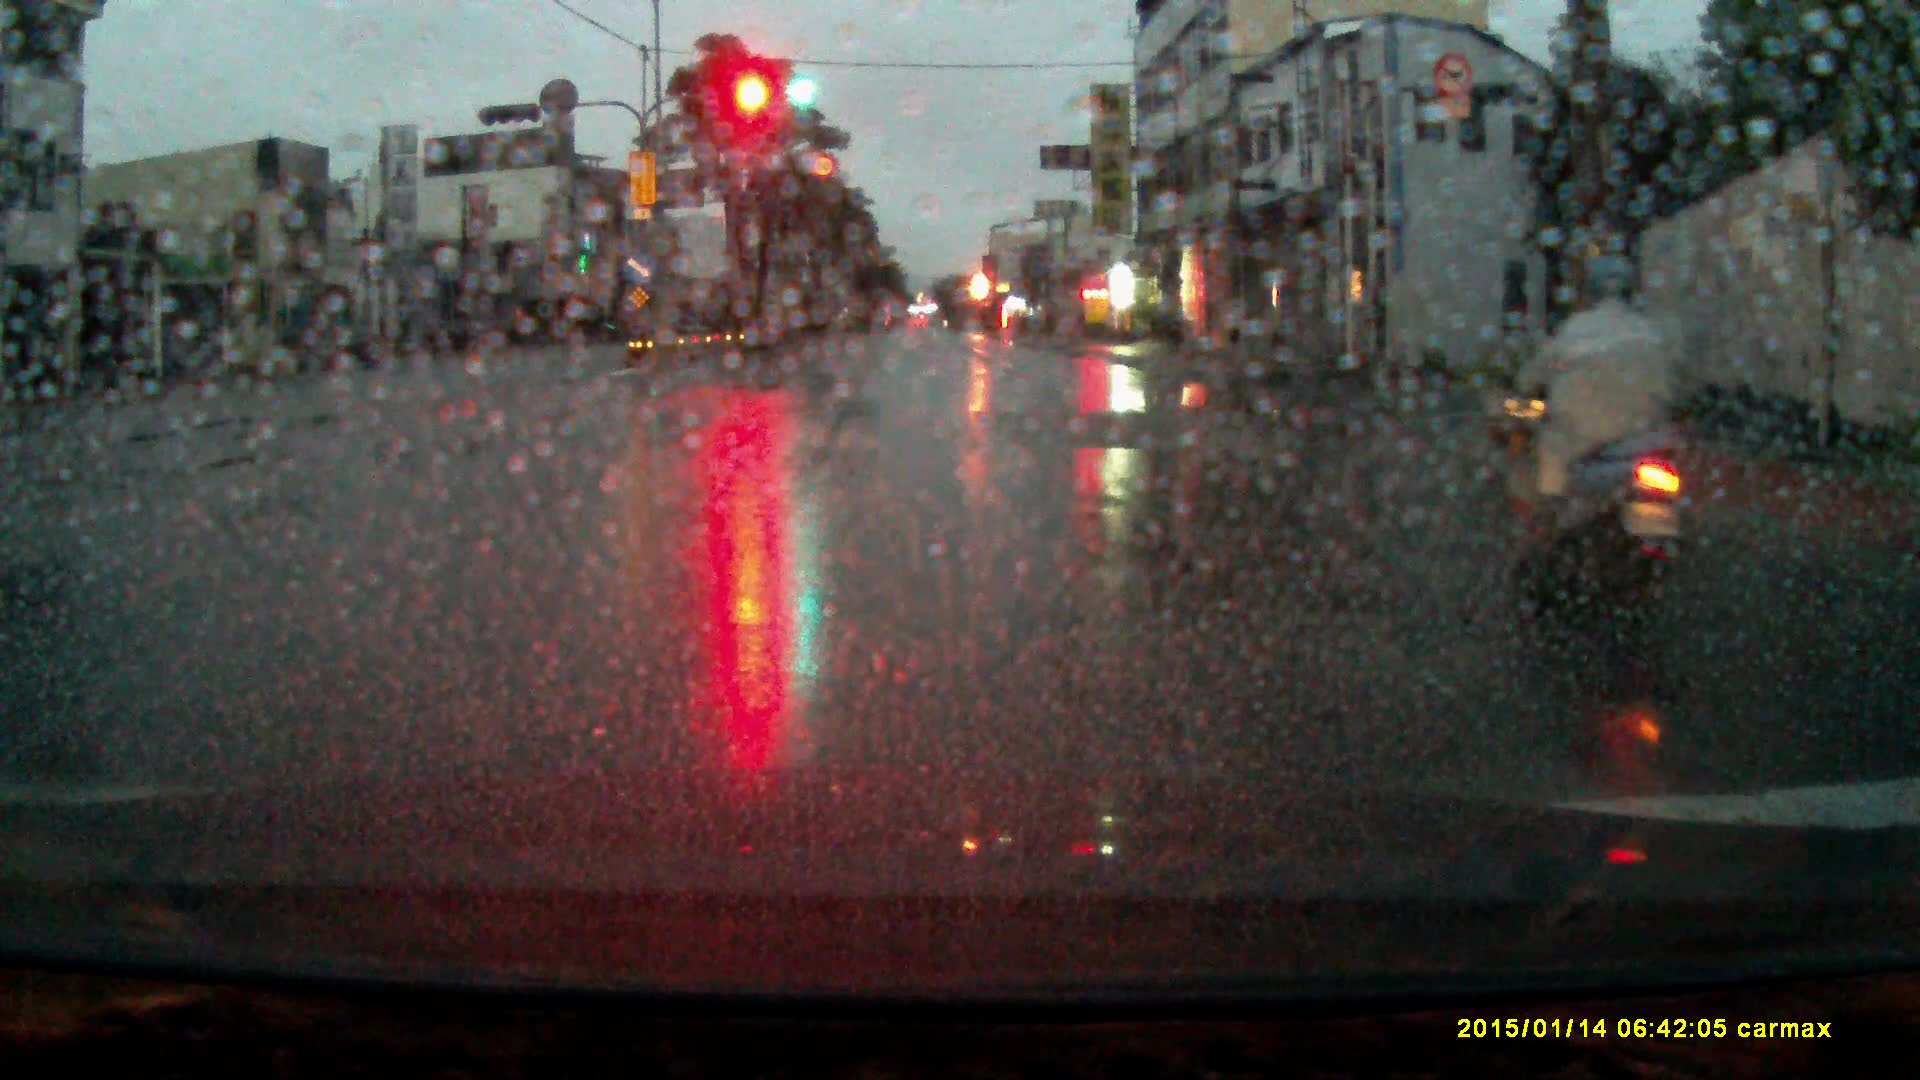rider: (1497, 249, 1709, 632)
